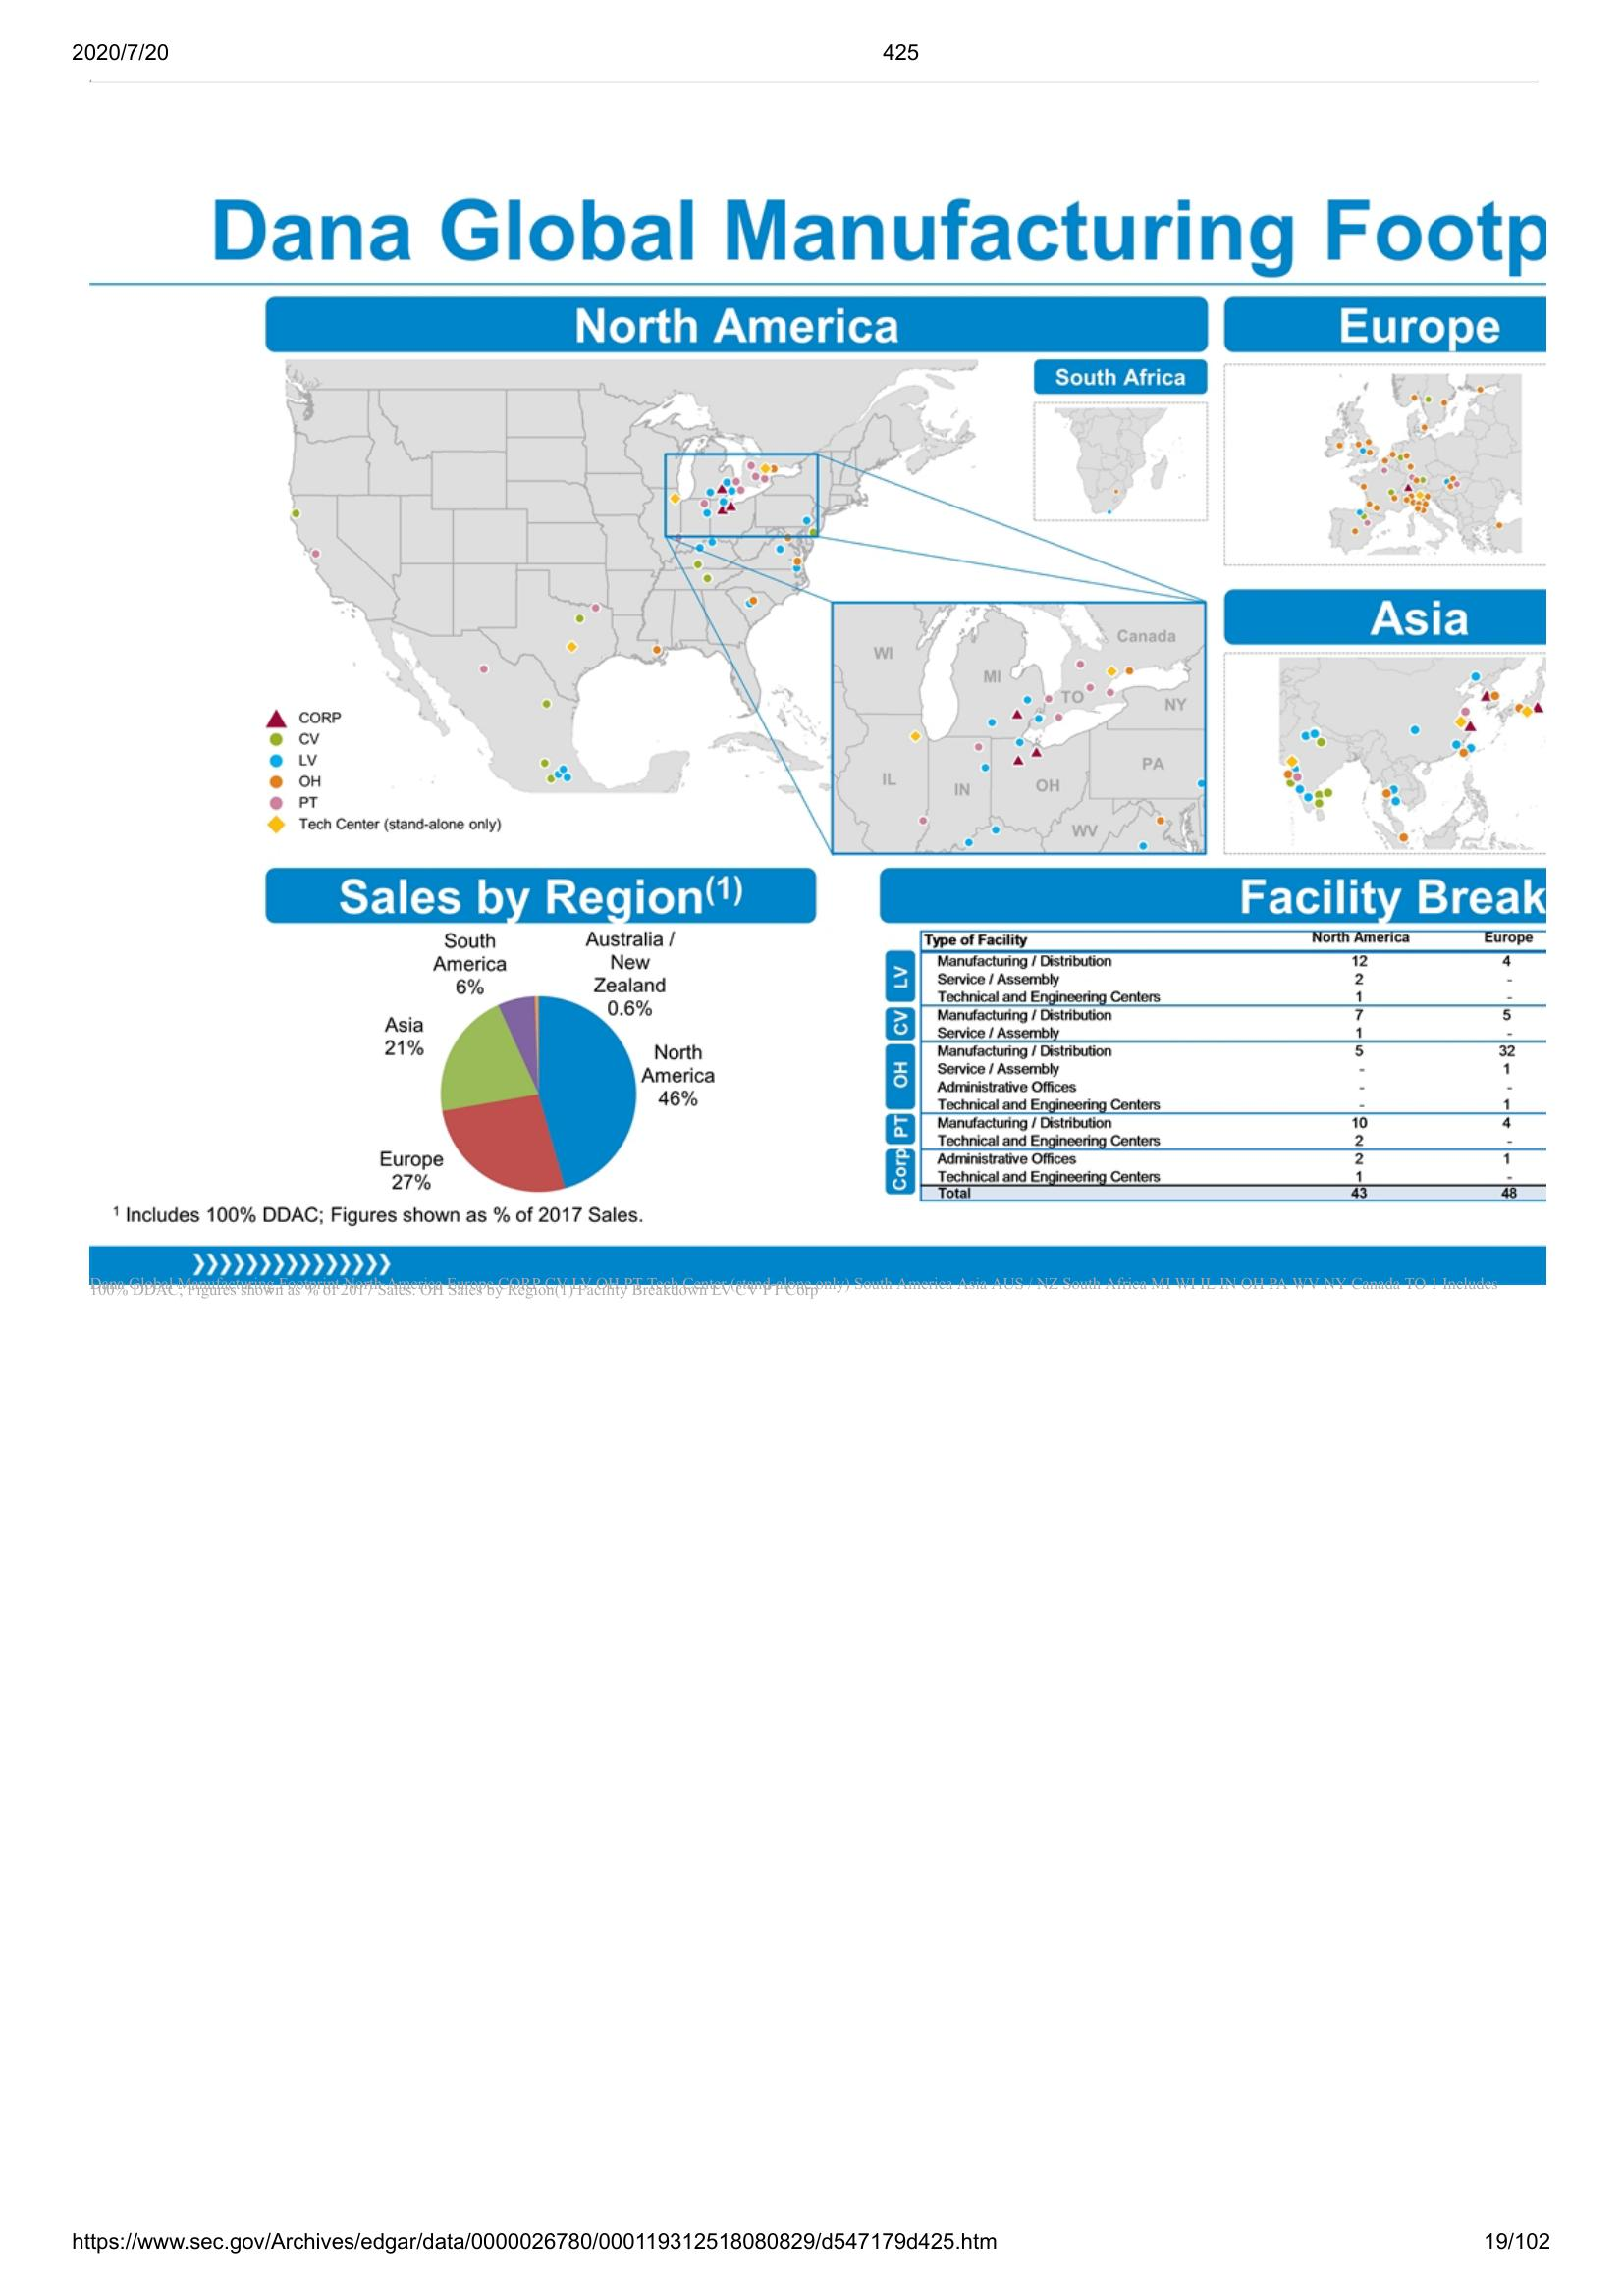table: (920, 927, 1549, 1211)
